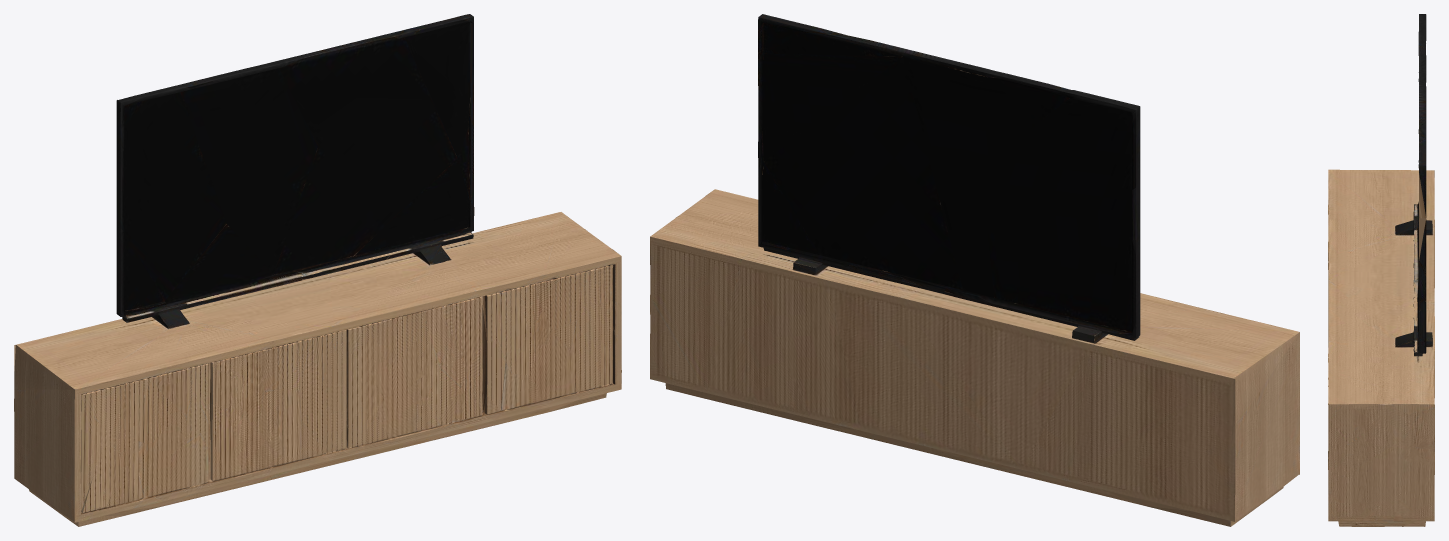
The picture shows the model from 3 angles, left to right: view 1: azimuth 30°, elevation 25°; view 2: azimuth 150°, elevation 25°; view 3: azimuth 270°, elevation 25°; orthographic projection. The views are drawn at different scales.
Size of the model in its own units: 1.9 by 1.23 by 0.3652.
Materials: 1 (1 with a texture image).
